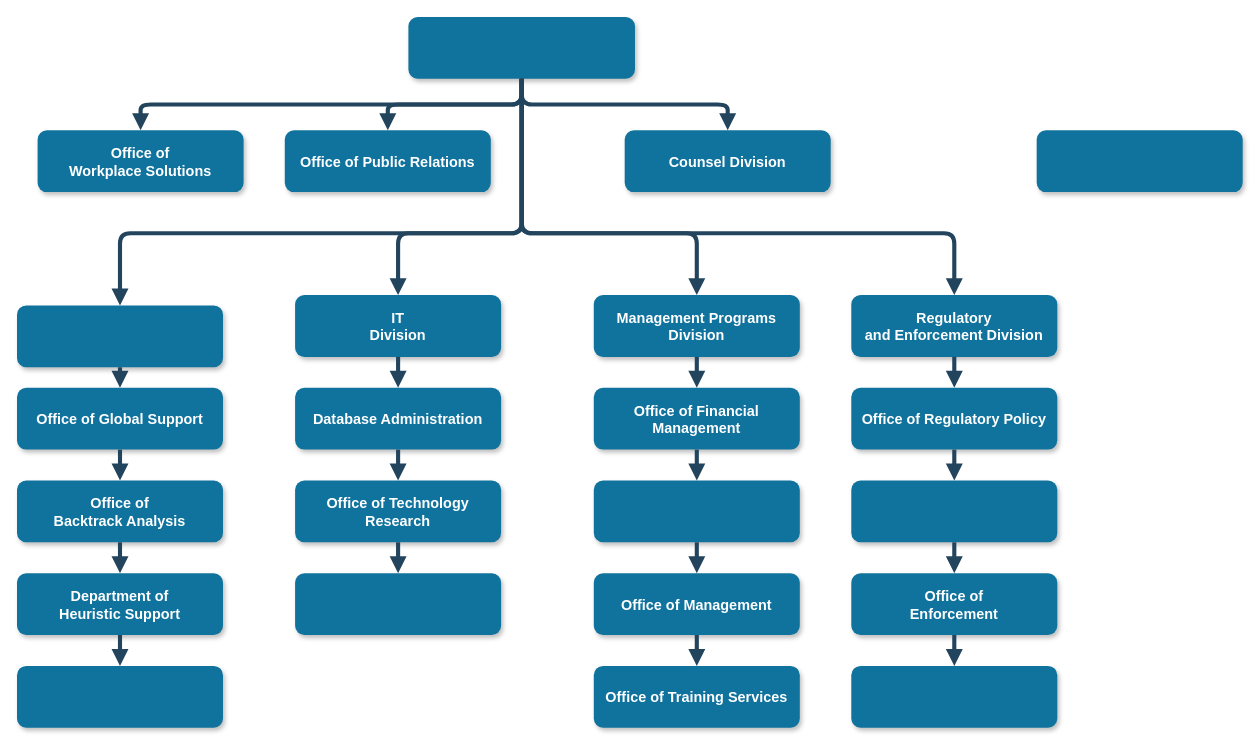
This 1260x745 diagram has some shape labels left out. Here are the shapes that lost their labels. From the top down, the centre of each, then its label:
At point (522, 48): "Etil Alkol".
At point (1140, 162): "Fü".
At point (120, 337): "Analysis Division".
At point (697, 512): "Office of Human Resources".
At point (955, 512): "Office Compliance".
At point (398, 605): "Office of Data Services".
At point (120, 697): "Office of Intelligence Support".
At point (955, 697): "Office of Regulatory Support".
